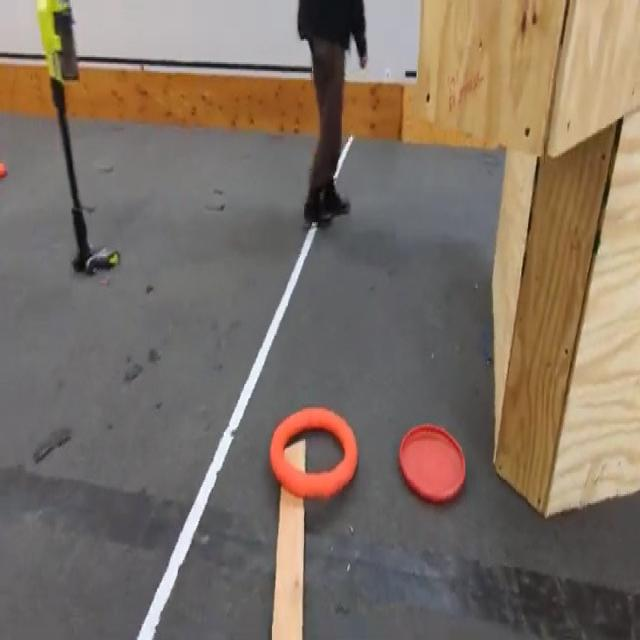note: (272, 413, 361, 500)
